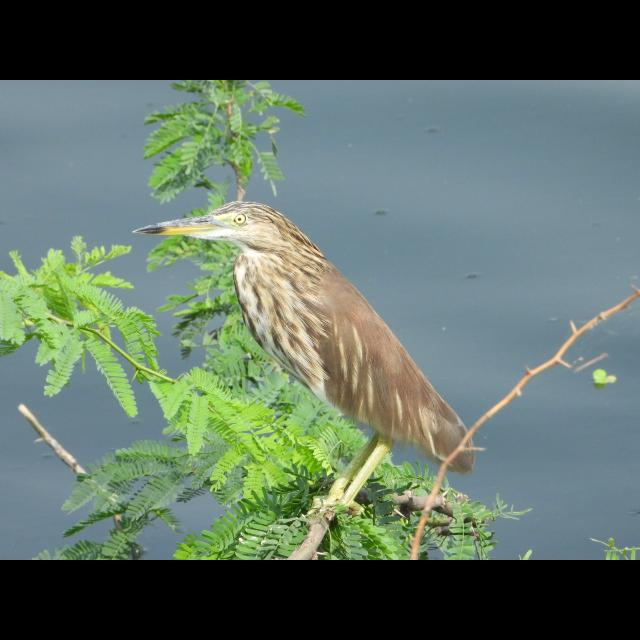heron: (135, 198, 477, 470)
